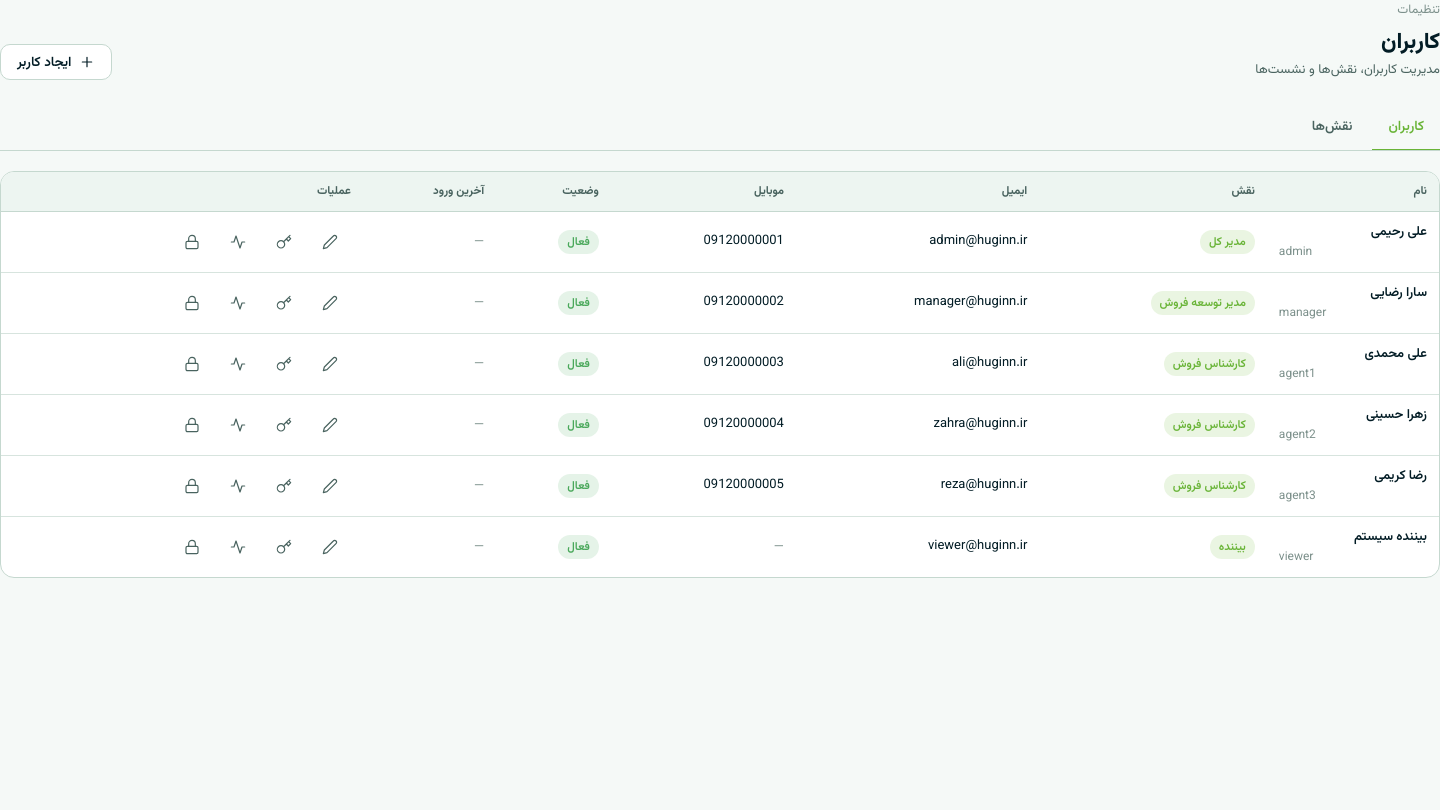
Test: user edit › saves even when the username field contains non-ASCII input
Expected: the text "علی محمدی" is shown, [1364,344,1427,364]
Click the button named "ویرایش" in the row of "علی رحیمی".
click(330, 242)  # box [309,227,351,257]
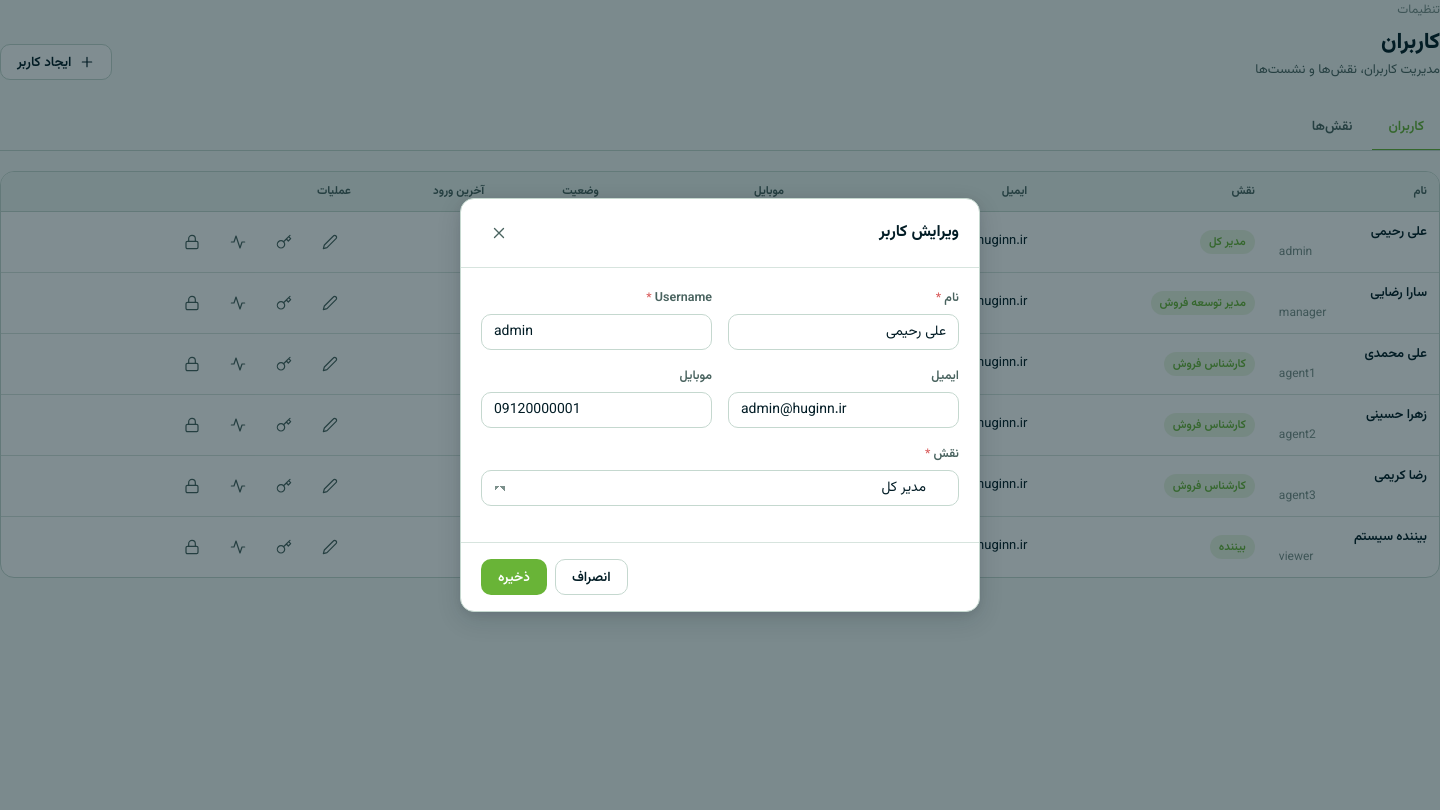
Expected: the dialog is shown
Type "ییییی" into the field labelled "Username *".
click(596, 332); type("ییییی")  # box [481,314,712,350]
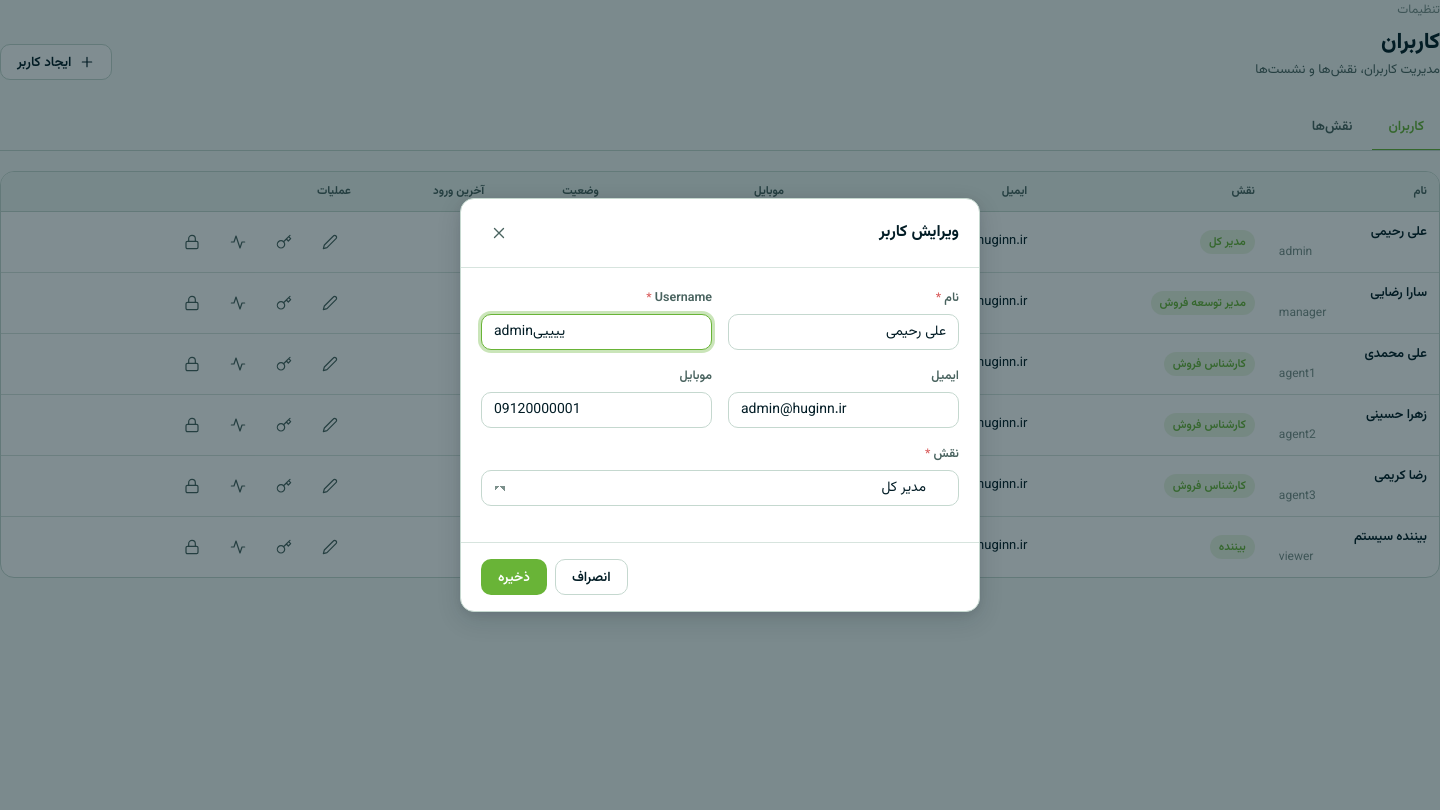
Click the button "ذخیره".
click(514, 577)  # box [481,559,547,595]
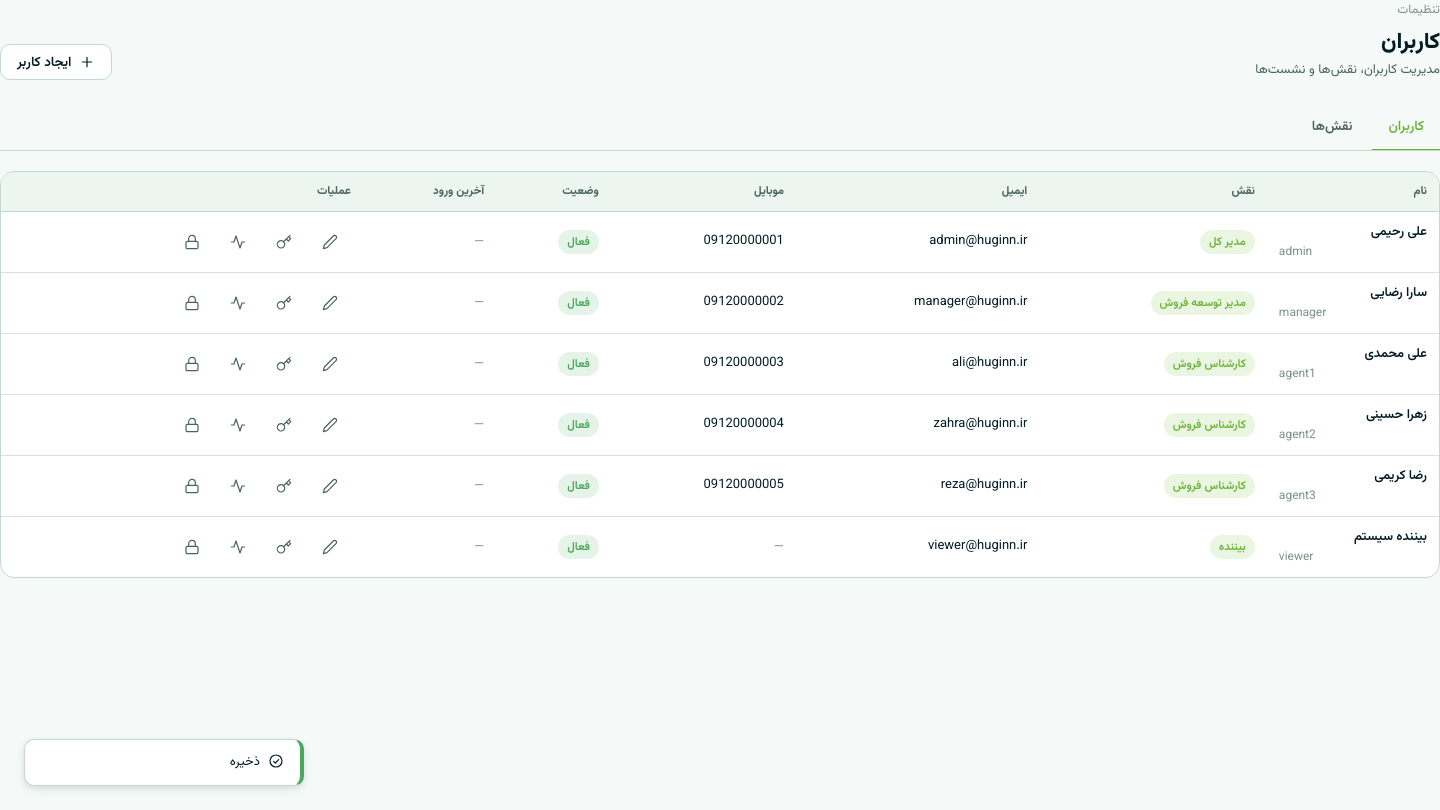
Expected: the dialog is gone
